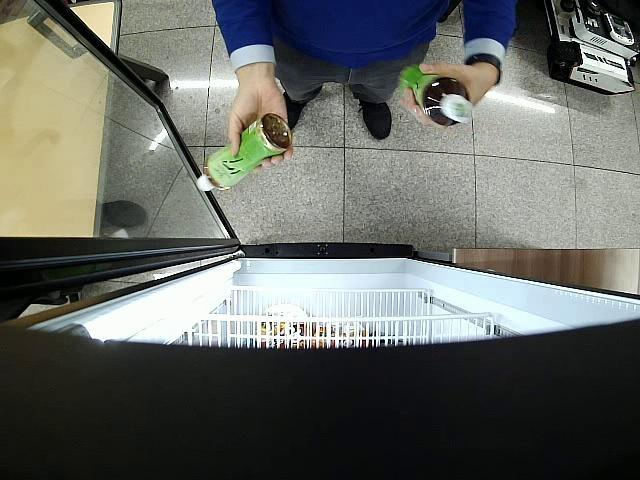19_17cha: (197, 114, 292, 192), (399, 66, 473, 126)
